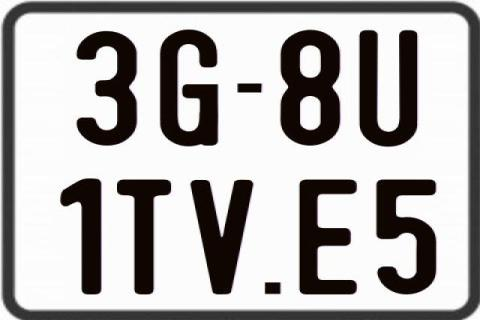0: (374, 178, 440, 298), (279, 29, 342, 149), (74, 29, 136, 147), (59, 179, 103, 297)
E: (298, 179, 362, 299)
G: (157, 29, 219, 151)
T: (115, 179, 172, 299)
U: (357, 28, 419, 144)
V: (189, 179, 253, 295)
